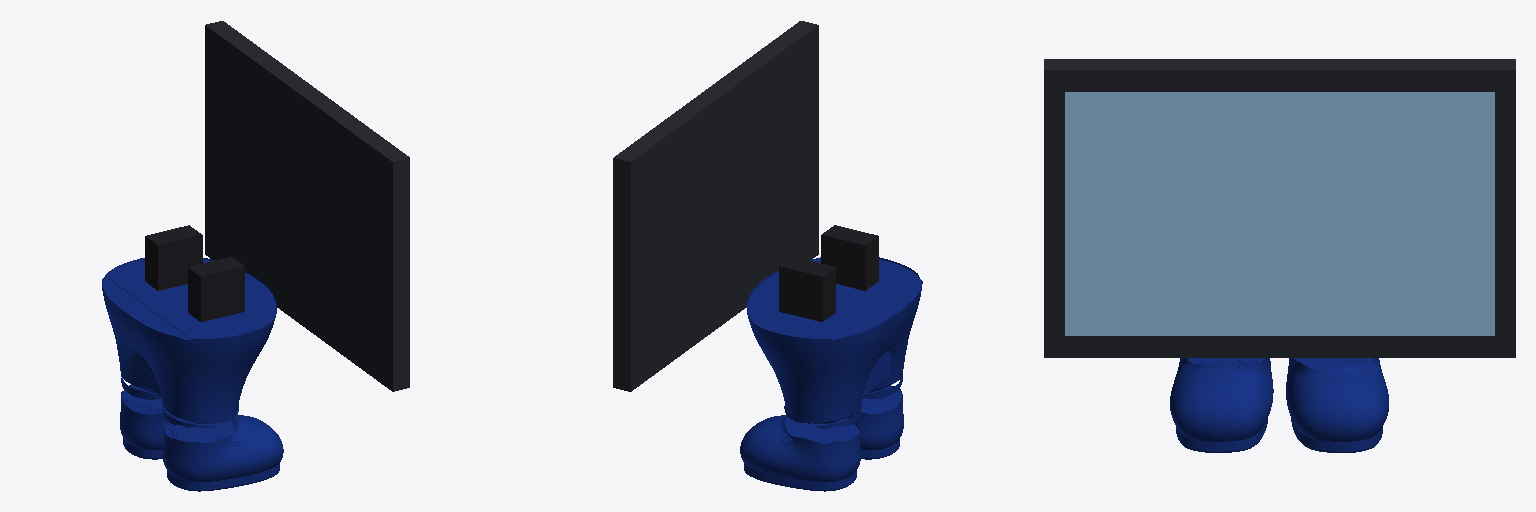
The robot description file, URDF, robot "haetburi":
<?xml version="1.0"?>
<!-- Haetburi biped (v17_sts3032) - generated by tools/build_model.py, do not edit by hand -->
<robot name="haetburi">
  <mujoco>
    <compiler meshdir="." balanceinertia="true" discardvisual="false" strippath="false" fusestatic="false"/>
  </mujoco>
  <material name="display"><color rgba="0.18 0.19 0.21 1"/></material>
  <material name="screen"><color rgba="0.62 0.80 0.95 1"/></material>
  <material name="shell"><color rgba="0.106 0.216 0.541 1"/></material>
  <material name="motor"><color rgba="0.15 0.15 0.17 1"/></material>
  <material name="foot"><color rgba="0.25 0.25 0.28 1"/></material>
  <link name="world"/>
  <joint name="floating_base" type="floating">
    <parent link="world"/><child link="pelvis"/>
    <origin xyz="0 0 0" rpy="0 0 0"/>
  </joint>
  <link name="pelvis">
    <inertial>
      <origin xyz="-0.00681523 -4.4417e-05 0.0387817" rpy="0 0 0"/>
      <mass value="0.2386"/>
      <inertia ixx="0.00016006" ixy="1.07953e-07" ixz="4.67626e-05" iyy="0.000210841" iyz="-4.42442e-08" izz="0.000152618"/>
    </inertial>
    <visual><origin xyz="0 0 0" rpy="0 0 0"/><geometry><mesh filename="meshes/pelvis.stl"/></geometry><material name="shell"/></visual>
    <visual><origin xyz="0.00700206 0.0191539 0.04925" rpy="0 0 0"/><geometry><box size="0.023 0.012 0.0275"/></geometry><material name="motor"/></visual>
    <visual><origin xyz="0.00699794 -0.0193903 0.04925" rpy="0 0 0"/><geometry><box size="0.023 0.012 0.0275"/></geometry><material name="motor"/></visual>
    <collision><origin xyz="0.00584209 -0.000114454 0.0164421" rpy="0 0 0"/><geometry><box size="0.0700438 0.0930141 0.0488559"/></geometry></collision>
  </link>
  <link name="torso">
    <inertial>
      <origin xyz="0.0170411 8.09622e-05 0.101235" rpy="0 0 0"/>
      <mass value="1.03346"/>
      <inertia ixx="0.010353" ixy="-3.0124e-05" ixz="0.00187998" iyy="0.0104148" iyz="-2.90446e-05" izz="0.00566623"/>
    </inertial>
    <visual><origin xyz="0 0 0" rpy="0 0 0"/><geometry><mesh filename="meshes/torso.stl"/></geometry><material name="shell"/></visual>
    <visual><origin xyz="0.0657291 0 0.0306773" rpy="0 0 0"/><geometry><box size="0.009246 0.169242 0.114409"/></geometry><material name="display"/></visual>
    <visual><origin xyz="0.0703521 0 0.0306773" rpy="0 0 0"/><geometry><box size="0.0004 0.154368 0.09648"/></geometry><material name="screen"/></visual>
    <collision><origin xyz="-0.0305177 -1.42065e-06 0.0225147" rpy="0 0 0"/><geometry><box size="0.143246 0.0971313 0.0956536"/></geometry></collision>
    <collision><origin xyz="0.0372654 0.0752369 0.0453689" rpy="0 0 0"/><geometry><sphere radius="0.0544232"/></geometry></collision>
    <collision><origin xyz="0.037523 -0.0753523 0.0453689" rpy="0 0 0"/><geometry><sphere radius="0.0543709"/></geometry></collision>
    <collision><origin xyz="-0.00467744 0.000239208 0.0918479" rpy="0 0 0"/><geometry><sphere radius="0.0933465"/></geometry></collision>
    <collision><origin xyz="-0.00815059 -0.000109976 0.134832" rpy="0 0 0"/><geometry><sphere radius="0.107694"/></geometry></collision>
    <collision><origin xyz="-0.012411 -0.000181511 0.177823" rpy="0 0 0"/><geometry><sphere radius="0.106447"/></geometry></collision>
    <collision><origin xyz="-0.00973643 0.000766764 0.220812" rpy="0 0 0"/><geometry><sphere radius="0.0925595"/></geometry></collision>
    <collision><origin xyz="-0.00576134 0.00606915 0.263827" rpy="0 0 0"/><geometry><sphere radius="0.0659735"/></geometry></collision>
    <collision><origin xyz="-0.0105584 -0.00200599 0.306805" rpy="0 0 0"/><geometry><sphere radius="0.0382864"/></geometry></collision>
    <collision><origin xyz="0.0657291 0 0.0306773" rpy="0 0 0"/><geometry><box size="0.009246 0.169242 0.114409"/></geometry></collision>
  </link>
  <link name="leg_l">
    <inertial>
      <origin xyz="-0.000220233 0.0019699 -0.0250553" rpy="0 0 0"/>
      <mass value="0.0332487"/>
      <inertia ixx="9.40966e-06" ixy="-1.28261e-08" ixz="3.1361e-08" iyy="7.30941e-06" iyz="3.12044e-09" izz="3.80631e-06"/>
    </inertial>
    <visual><origin xyz="0 0 0" rpy="0 0 0"/><geometry><mesh filename="meshes/leg_l.stl"/></geometry><material name="shell"/></visual>
    <collision><origin xyz="-0.00128076 0.00223007 -0.0208586" rpy="0 0 0"/><geometry><box size="0.0356868 0.0315874 0.00441944"/></geometry></collision>
  </link>
  <link name="hip_l">
    <inertial>
      <origin xyz="0 -0.00169586 0.0183157" rpy="0 0 0"/>
      <mass value="0.0359266"/>
      <inertia ixx="2.7237e-06" ixy="0" ixz="0" iyy="1.44058e-06" iyz="1.71077e-08" izz="1.88312e-06"/>
    </inertial>
    <visual><origin xyz="0 -0.002 0.019" rpy="0 0 0"/><geometry><box size="0.012 0.0275 0.023"/></geometry><material name="motor"/></visual>
  </link>
  <link name="foot_l">
    <inertial>
      <origin xyz="0.000276397 0.0042634 -0.00156683" rpy="0 0 0"/>
      <mass value="0.0597762"/>
      <inertia ixx="6.83422e-06" ixy="-2.70163e-07" ixz="-8.07449e-08" iyy="9.57221e-06" iyz="-5.75349e-07" izz="1.12109e-05"/>
    </inertial>
    <visual><origin xyz="0 0 0" rpy="0 0 0"/><geometry><mesh filename="meshes/foot_l.stl"/></geometry><material name="shell"/></visual>
    <visual><origin xyz="0 0.0055 3.36778e-19" rpy="0 0 0"/><geometry><box size="0.0275 0.023 0.012"/></geometry><material name="motor"/></visual>
    <collision><origin xyz="0 0 0" rpy="0 0 0"/><geometry><mesh filename="meshes/foot_l.stl"/></geometry></collision>
  </link>
  <link name="leg_r">
    <inertial>
      <origin xyz="-0.000193265 -0.00197416 -0.0250151" rpy="0 0 0"/>
      <mass value="0.0332368"/>
      <inertia ixx="9.39621e-06" ixy="8.30664e-09" ixz="2.84738e-08" iyy="7.28812e-06" iyz="-2.78164e-09" izz="3.80082e-06"/>
    </inertial>
    <visual><origin xyz="0 0 0" rpy="0 0 0"/><geometry><mesh filename="meshes/leg_r.stl"/></geometry><material name="shell"/></visual>
    <collision><origin xyz="-0.00132778 -0.00233315 -0.0207933" rpy="0 0 0"/><geometry><box size="0.0355437 0.032019 0.00430472"/></geometry></collision>
  </link>
  <link name="hip_r">
    <inertial>
      <origin xyz="0 0.00169586 0.0183157" rpy="0 0 0"/>
      <mass value="0.0359266"/>
      <inertia ixx="2.7237e-06" ixy="0" ixz="0" iyy="1.44058e-06" iyz="-1.71077e-08" izz="1.88312e-06"/>
    </inertial>
    <visual><origin xyz="0 0.002 0.019" rpy="0 0 0"/><geometry><box size="0.012 0.0275 0.023"/></geometry><material name="motor"/></visual>
  </link>
  <link name="foot_r">
    <inertial>
      <origin xyz="0.000219322 -0.00411045 -0.00158817" rpy="0 0 0"/>
      <mass value="0.0596975"/>
      <inertia ixx="6.76921e-06" ixy="2.74787e-07" ixz="-5.80406e-08" iyy="9.52899e-06" iyz="5.4791e-07" izz="1.11491e-05"/>
    </inertial>
    <visual><origin xyz="0 0 0" rpy="0 0 0"/><geometry><mesh filename="meshes/foot_r.stl"/></geometry><material name="shell"/></visual>
    <visual><origin xyz="0 -0.0055 3.36778e-19" rpy="0 0 0"/><geometry><box size="0.0275 0.023 0.012"/></geometry><material name="motor"/></visual>
    <collision><origin xyz="0 0 0" rpy="0 0 0"/><geometry><mesh filename="meshes/foot_r.stl"/></geometry></collision>
  </link>
  <joint name="waist_fixed" type="fixed">
    <parent link="pelvis"/><child link="torso"/>
    <origin xyz="0 0 0.04087" rpy="0 0 0"/>
  </joint>
  <joint name="hip_yaw_l" type="revolute">
    <parent link="pelvis"/><child link="hip_l"/>
    <origin xyz="0.00150206 0.0191539 0" rpy="0 0 0"/>
    <axis xyz="0 0 1"/>
    <limit lower="-0.314159" upper="0.314159" effort="0.44" velocity="11.6"/>
    <dynamics damping="0.03142857142857144" friction="0.012571428571428574"/>
  </joint>
  <joint name="hip_pitch_l" type="revolute">
    <parent link="hip_l"/><child link="leg_l"/>
    <origin xyz="0 -0.002 0.0135" rpy="0 0 0"/>
    <axis xyz="0 1 0"/>
    <limit lower="-0.785398" upper="0.418879" effort="0.44" velocity="11.6"/>
    <dynamics damping="0.03142857142857144" friction="0.012571428571428574"/>
  </joint>
  <joint name="hip_yaw_r" type="revolute">
    <parent link="pelvis"/><child link="hip_r"/>
    <origin xyz="0.00149794 -0.0193903 0" rpy="0 0 0"/>
    <axis xyz="0 0 1"/>
    <limit lower="-0.314159" upper="0.314159" effort="0.44" velocity="11.6"/>
    <dynamics damping="0.03142857142857144" friction="0.012571428571428574"/>
  </joint>
  <joint name="hip_pitch_r" type="revolute">
    <parent link="hip_r"/><child link="leg_r"/>
    <origin xyz="0 0.002 0.0135" rpy="0 0 0"/>
    <axis xyz="0 1 0"/>
    <limit lower="-0.785398" upper="0.418879" effort="0.44" velocity="11.6"/>
    <dynamics damping="0.03142857142857144" friction="0.012571428571428574"/>
  </joint>
  <joint name="ankle_roll_l" type="revolute">
    <parent link="leg_l"/><child link="foot_l"/>
    <origin xyz="0.00756022 -0.00250034 -0.04553" rpy="0 0 0"/>
    <axis xyz="1 0 0"/>
    <limit lower="-0.261799" upper="0.261799" effort="0.44" velocity="11.6"/>
    <dynamics damping="0.03142857142857144" friction="0.012571428571428574"/>
  </joint>
  <joint name="ankle_roll_r" type="revolute">
    <parent link="leg_r"/><child link="foot_r"/>
    <origin xyz="0.00765398 0.00202445 -0.04553" rpy="0 0 0"/>
    <axis xyz="1 0 0"/>
    <limit lower="-0.261799" upper="0.261799" effort="0.44" velocity="11.6"/>
    <dynamics damping="0.03142857142857144" friction="0.012571428571428574"/>
  </joint>
</robot>

--- What the picture shows (computed from the rendered views, not written in the file) ---
3 views of the same robot in one strip: view 1: azimuth 30°, elevation 25°; view 2: azimuth 150°, elevation 25°; view 3: azimuth 270°, elevation 25° (orthographic).
Robot: haetburi — 9 links, 8 joints (6 revolute, 1 fixed, 1 floating); root link world; default pose: all joints at 0.
Visible links, largest first — view 1: torso, pelvis, foot_r, foot_l; view 2: torso, pelvis, foot_l, foot_r; view 3: torso, foot_r, foot_l.
Boxes of the visible links, x1,y1,x2,y2 form: torso: [205, 21, 409, 391]; pelvis: [102, 225, 276, 423]; foot_r: [163, 415, 283, 491]; foot_l: [120, 384, 175, 459]; torso: [613, 21, 818, 391]; pelvis: [746, 225, 922, 423]; foot_l: [740, 415, 860, 491]; foot_r: [848, 385, 903, 459]; torso: [1044, 59, 1515, 357]; foot_r: [1170, 358, 1273, 452]; foot_l: [1286, 358, 1388, 452].
Size in the robot's own frame: 0.0997 by 0.1692 by 0.169 metres.
5 mesh visuals loaded from 6 distinct referenced files (5 binary STL); not drawn: 1 (reference not matched to a file when rendering).
